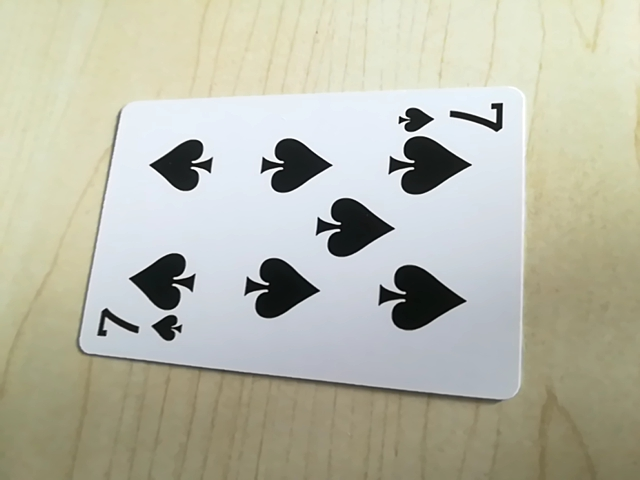ht 7: (392, 94, 507, 135), (92, 307, 188, 350)
